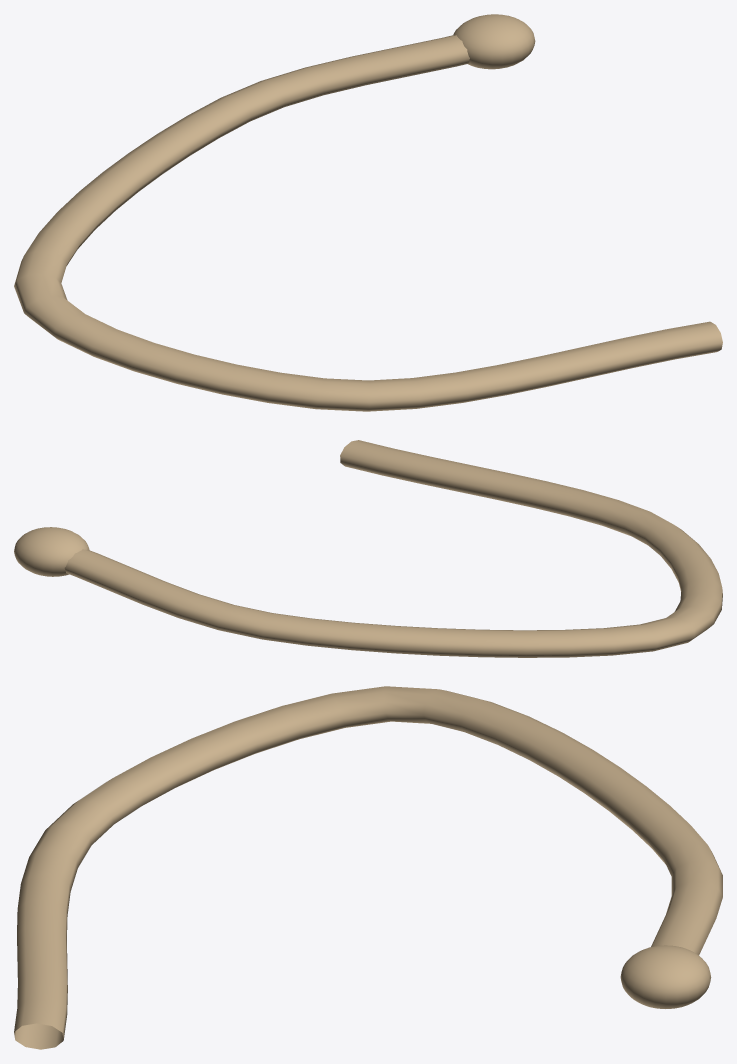
The model's file is right_rib_8.glb.
3 views of the same model, one above another, from view 1: azimuth 30°, elevation 25°; view 2: azimuth 150°, elevation 25°; view 3: azimuth 270°, elevation 25° (orthographic). The views are drawn at different scales.
Visible parts, largest first — view 1: right_rib_8:costal-body, right_rib_8:head; view 2: right_rib_8:costal-body, right_rib_8:head; view 3: right_rib_8:costal-body, right_rib_8:head.
Part boxes in pixels (bbox=[...]): right_rib_8:costal-body: bbox=[14, 35, 722, 411]; right_rib_8:head: bbox=[453, 14, 535, 69]; right_rib_8:costal-body: bbox=[64, 440, 722, 657]; right_rib_8:head: bbox=[14, 527, 89, 576]; right_rib_8:costal-body: bbox=[14, 686, 722, 1049]; right_rib_8:head: bbox=[620, 945, 711, 1008].
Bounding box in the file's own units: 0.4696 × 0.081 × 0.405.
